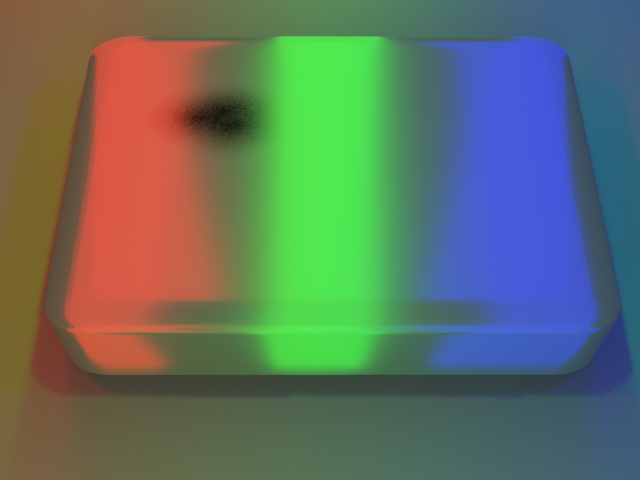stain: (115, 54, 312, 160)
